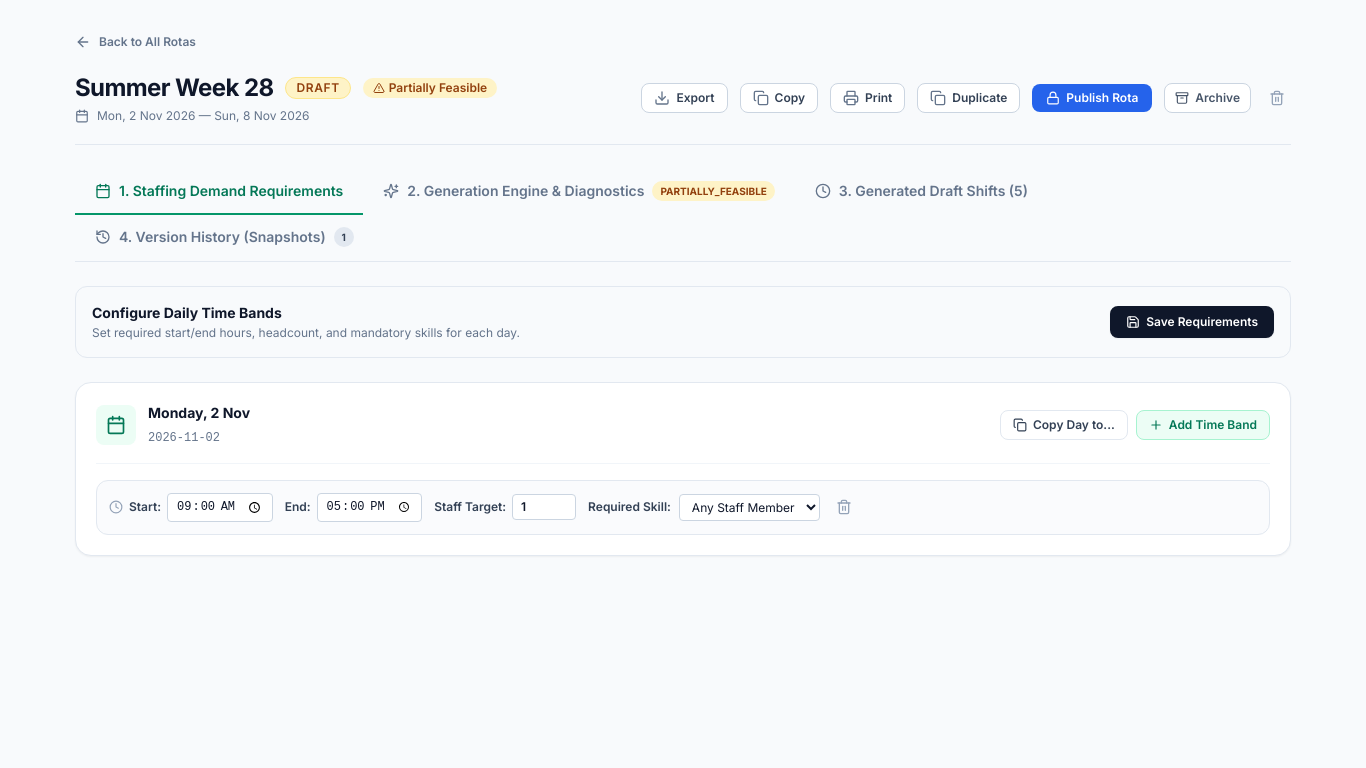
Milestone 5 Frontend - Rota Snapshots, Diagnostics & Transparency › renders the Version History (Snapshots) tab and handles restore confirmation modal
Expected: the heading "Summer Week 28" is shown, [75,72,274,104]
# Switch to Version History tab
Click the button "4. Version History (Snapshots) 1" at (224, 238), box [75,215,374,261]
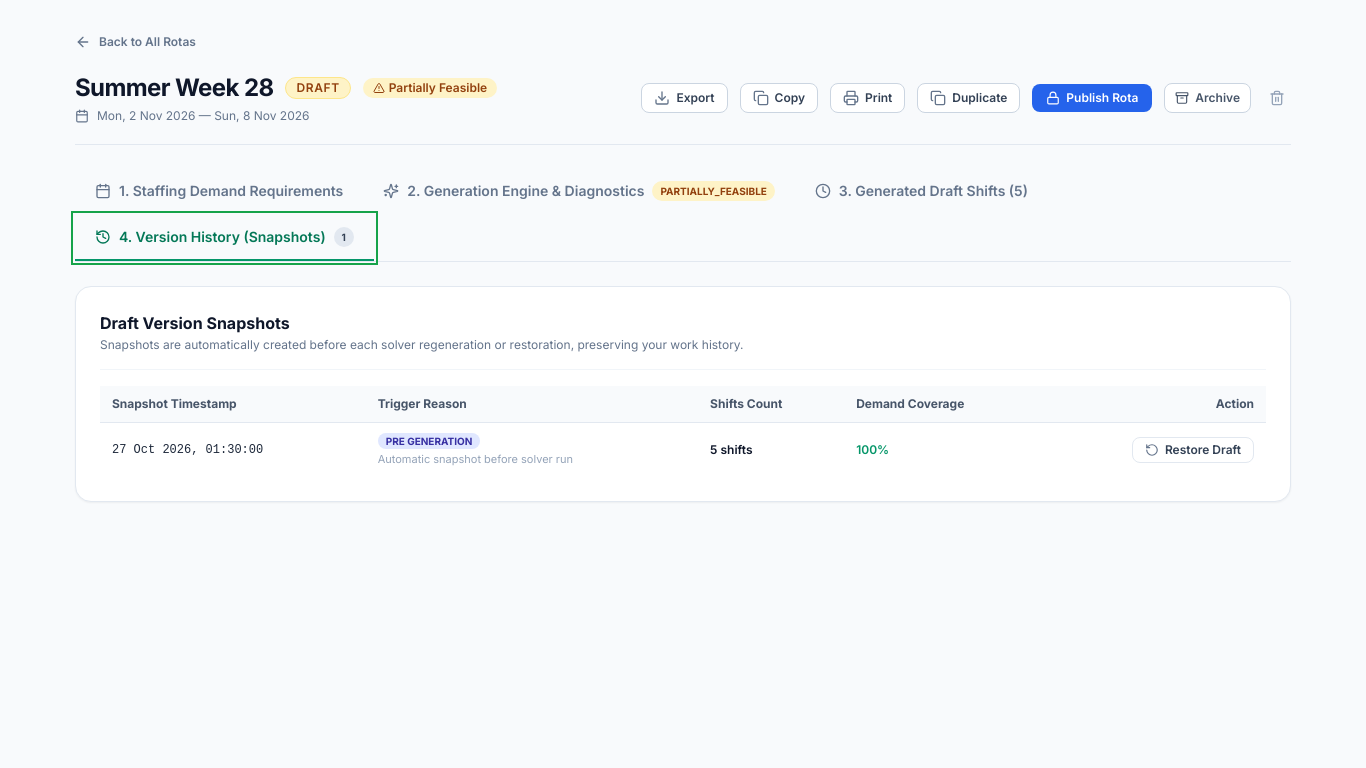
Expected: the heading "Draft Version Snapshots" is shown, [100,313,290,333]
Expected: the text "5 shifts" is shown, [698,422,844,477]
Expected: the text "100%" is shown, [844,422,1044,477]
# Click Restore Draft button
Click the button "Restore Draft" at (1193, 450), box [1132,437,1254,463]
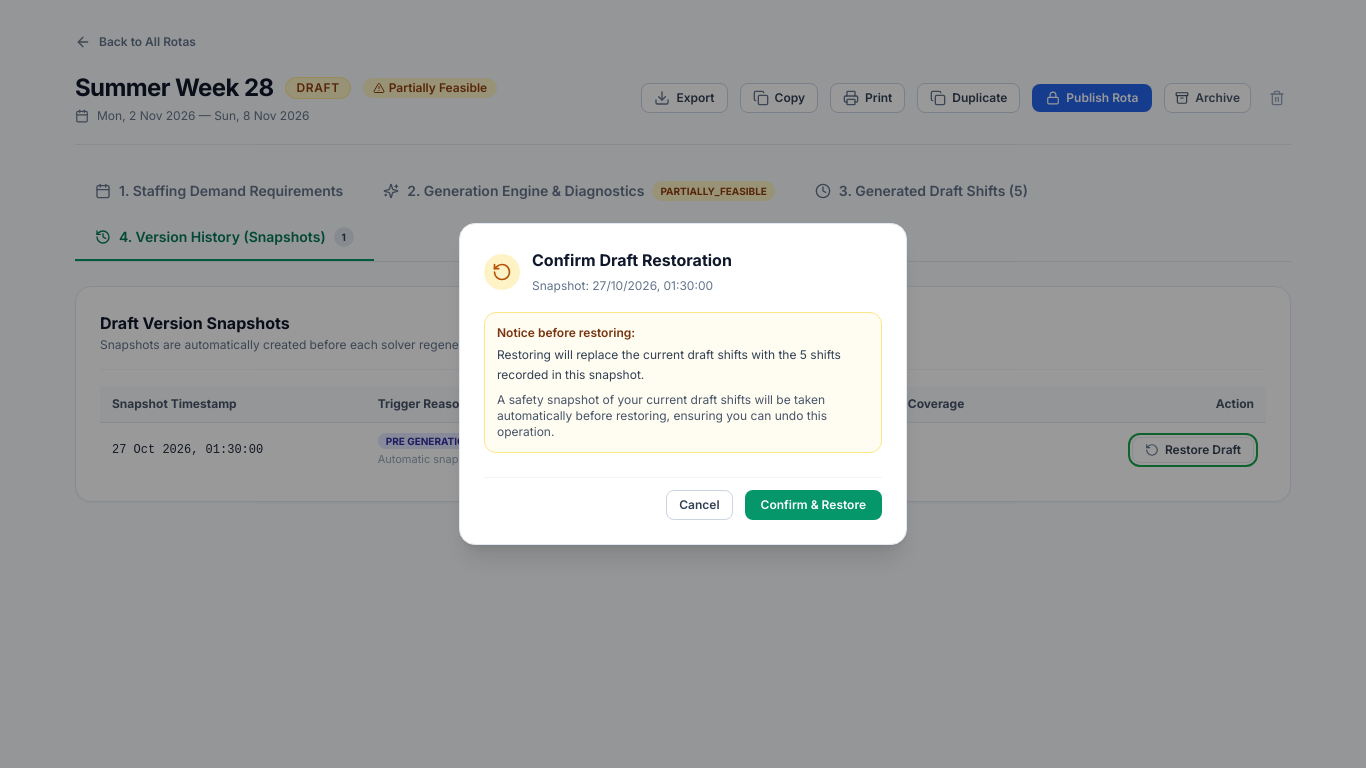
Expected: the heading "Confirm Draft Restoration" is shown, [532,248,732,272]
Expected: the text "Restoring will replace the current draft shifts with the 5 shifts" is shown, [497,345,869,384]
Expected: the text "A safety snapshot of your current draft shifts will be taken automatically" is shown, [497,392,827,439]
# Click Confirm & Restore button
Click the button "Confirm & Restore" at (813, 505), box [745,490,882,520]
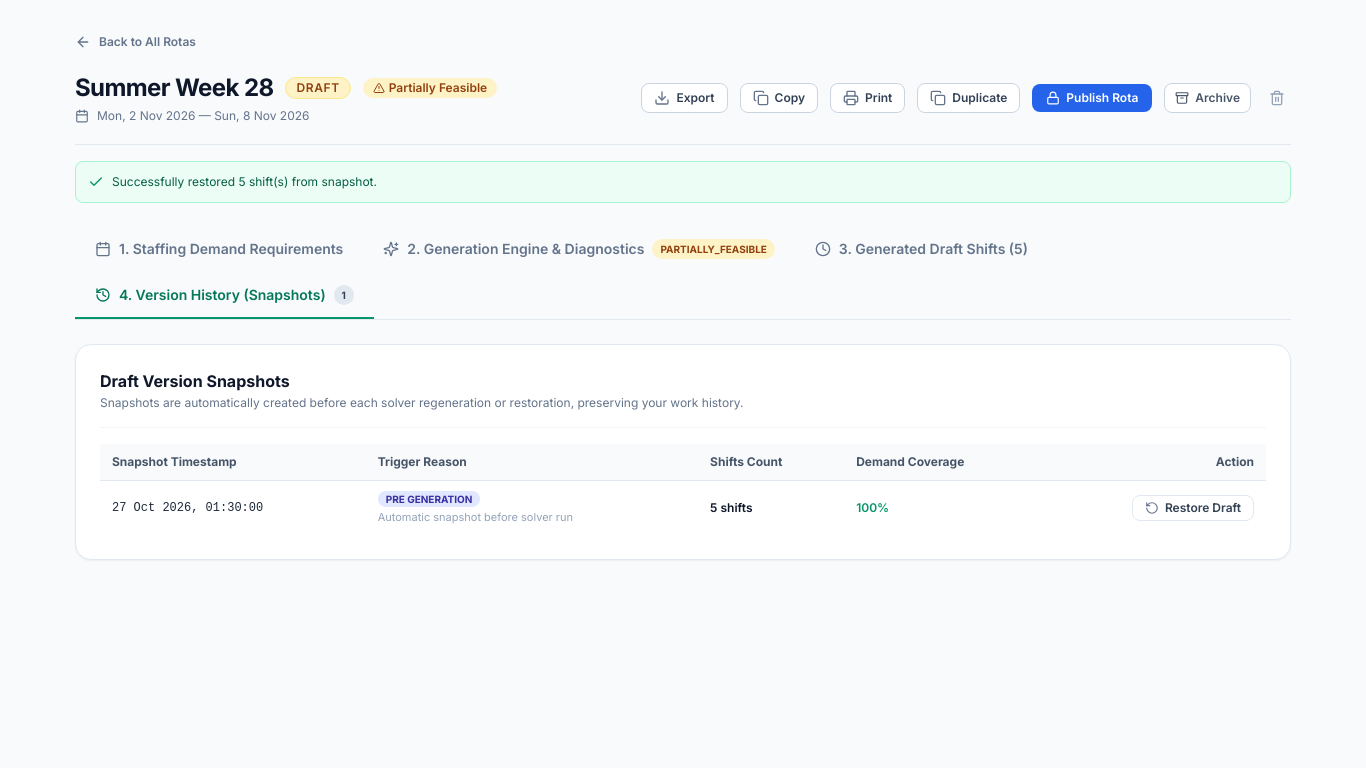
Expected: the text "Successfully restored 5 shift(s) from snapshot." is shown, [112,174,377,190]
